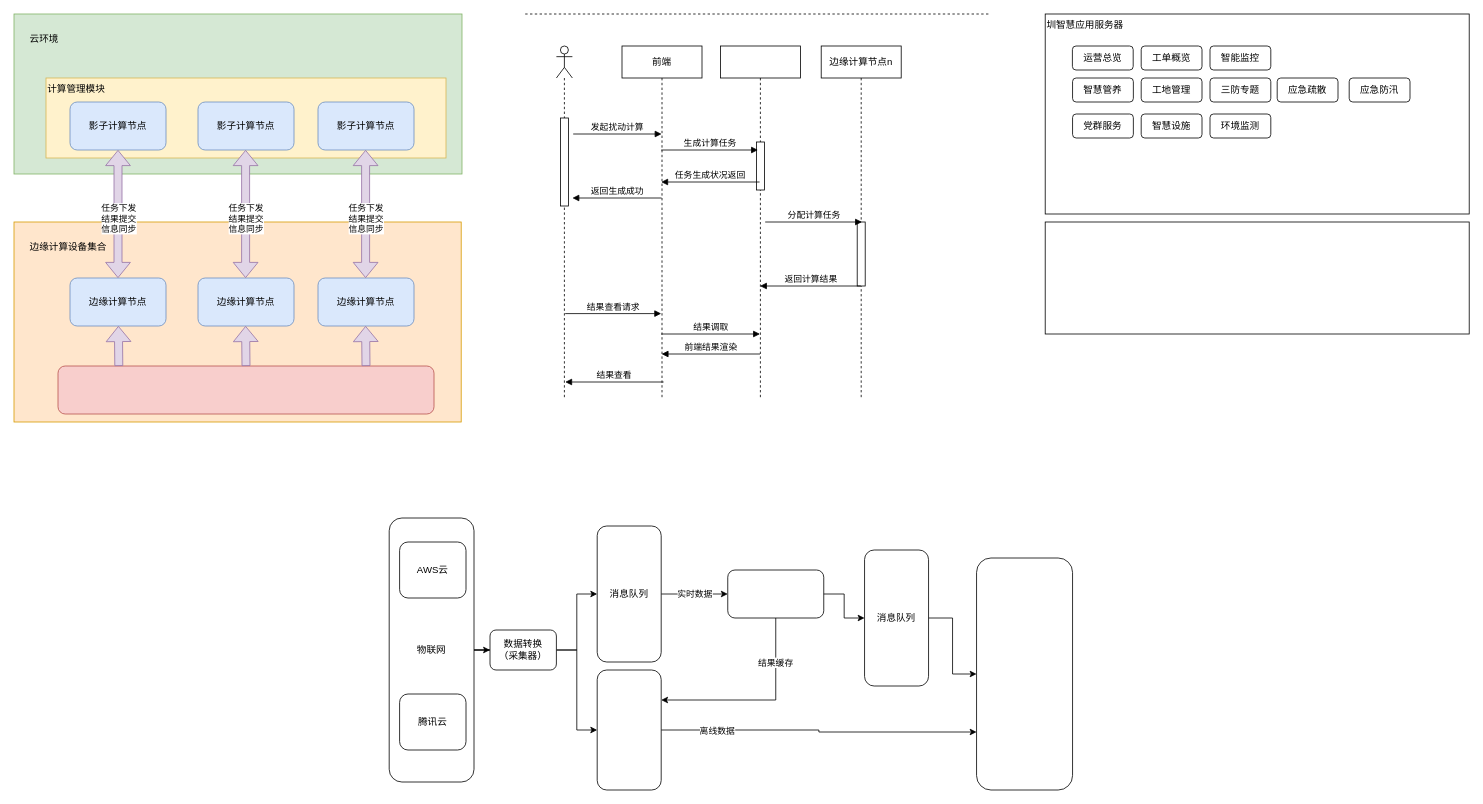
The diagram is 1483 pixels wide and 804 high, and some of its shapes have lost their labels. The shapes that lost their labels are listed below. From the top down, each one's centre as x and y in pixels, then its label:
the point at 760,221: 云端任务管理器
the point at 1256,277: 圳智慧数据中台
the point at 245,389: 影像管理节点
the point at 775,593: flink计算
the point at 1024,673: 低碳应用
the point at 628,729: SR
